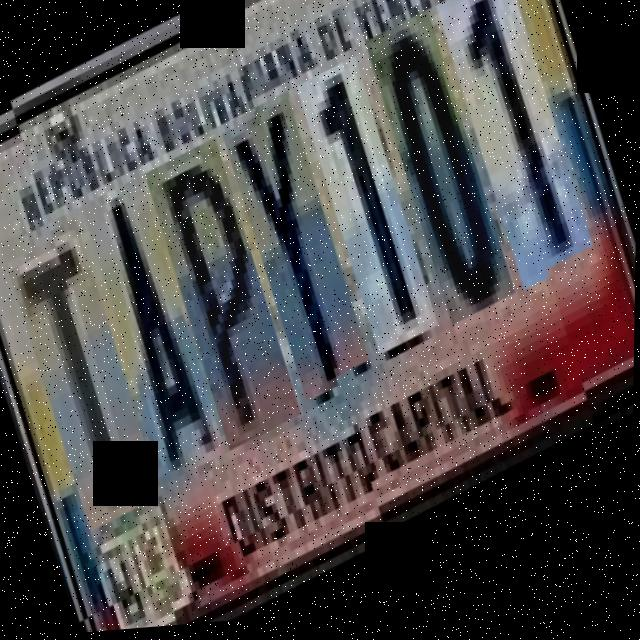1: (433, 0, 608, 315), (293, 64, 449, 374)
A: (74, 167, 234, 485)
O: (362, 20, 527, 349)
P: (138, 132, 309, 455)
T: (0, 208, 166, 523)
Y: (217, 96, 383, 410)
